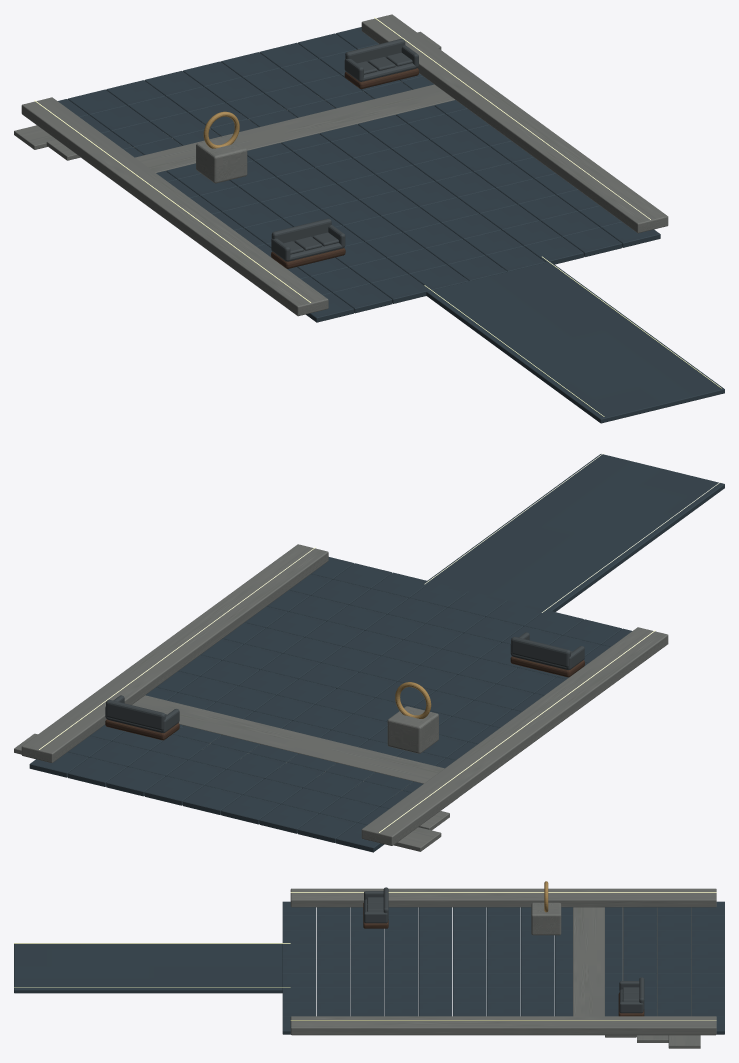
The model's file is environment-5.glb.
3 views of the same model, one above another, from view 1: azimuth 30°, elevation 25°; view 2: azimuth 150°, elevation 25°; view 3: azimuth 270°, elevation 25° (orthographic). The views are drawn at different scales.
Parts seen in each view (by area): view 1: Cut stone tile; view 2: Cut stone tile; view 3: Cut stone tile.
Part boxes in pixels (x1,y1,x2,y2): Cut stone tile: (14, 14, 724, 423); Cut stone tile: (14, 452, 724, 852); Cut stone tile: (14, 881, 724, 1048).
Size of the model in its own units: 17 by 2.79 by 33.39.
6 materials, 3 textured.
